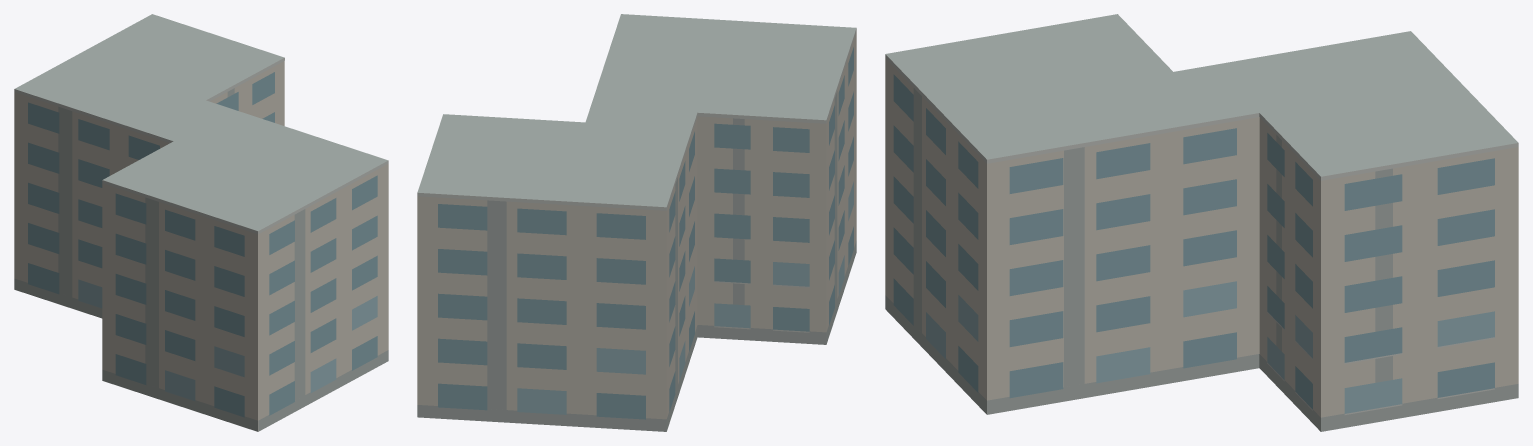
File: residential-0e602791-1bb8-4555-9edd-04c5fd7292b1.glb
3 renders of one model, left to right at view 1: azimuth 30°, elevation 25°; view 2: azimuth 150°, elevation 25°; view 3: azimuth 270°, elevation 25°, orthographic. The views are drawn at different scales.
Parts seen in each view (by area): view 1: residential-0e602791-1bb8-4555-9edd-04c5fd7292b1.tmp; view 2: residential-0e602791-1bb8-4555-9edd-04c5fd7292b1.tmp; view 3: residential-0e602791-1bb8-4555-9edd-04c5fd7292b1.tmp.
Part boxes in pixels (x1,y1,x2,y2): residential-0e602791-1bb8-4555-9edd-04c5fd7292b1.tmp: (14, 14, 388, 431); residential-0e602791-1bb8-4555-9edd-04c5fd7292b1.tmp: (417, 14, 856, 431); residential-0e602791-1bb8-4555-9edd-04c5fd7292b1.tmp: (885, 14, 1518, 431).
Bounding box in the file's own units: 20.88 × 15.25 × 34.32.
